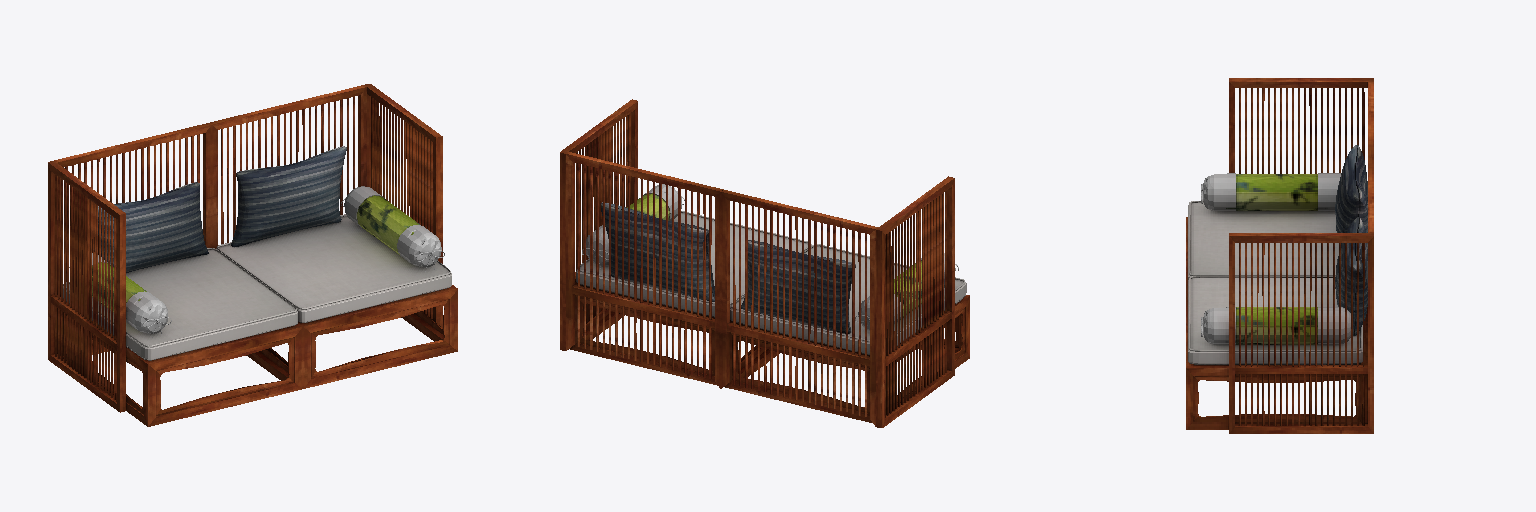
3 views of the same model, side by side, from view 1: azimuth 30°, elevation 25°; view 2: azimuth 150°, elevation 25°; view 3: azimuth 270°, elevation 25° (orthographic).
Visible parts, largest first — view 1: solid_004, solid_005, solid_003, solid_002, solid_006, solid_007, solid_001; view 2: solid_004, solid_003, solid_002, solid_005, solid_006, solid_001, solid_007; view 3: solid_004, solid_005, solid_003, solid_007, solid_002, solid_006, solid_001.
Part boxes in pixels (left/top/right/bottom): solid_004: left=48, top=88, right=457, bottom=426; solid_005: left=63, top=216, right=451, bottom=359; solid_003: left=48, top=84, right=457, bottom=426; solid_002: left=98, top=146, right=346, bottom=272; solid_006: left=69, top=186, right=444, bottom=337; solid_007: left=92, top=195, right=419, bottom=311; solid_001: left=63, top=214, right=450, bottom=360; solid_004: left=560, top=103, right=969, bottom=427; solid_003: left=560, top=99, right=969, bottom=427; solid_002: left=601, top=202, right=855, bottom=333; solid_005: left=576, top=213, right=966, bottom=353; solid_006: left=582, top=184, right=958, bottom=330; solid_001: left=580, top=211, right=964, bottom=354; solid_007: left=627, top=193, right=921, bottom=319; solid_004: left=1186, top=82, right=1373, bottom=432; solid_005: left=1188, top=202, right=1362, bottom=363; solid_003: left=1186, top=78, right=1373, bottom=433; solid_007: left=1226, top=174, right=1317, bottom=344; solid_002: left=1335, top=145, right=1367, bottom=335; solid_006: left=1201, top=173, right=1350, bottom=344; solid_001: left=1189, top=201, right=1361, bottom=364.
Size of the model in its own units: 1.82 by 1.06 by 0.9187.
Materials: 1 (1 with a texture image).